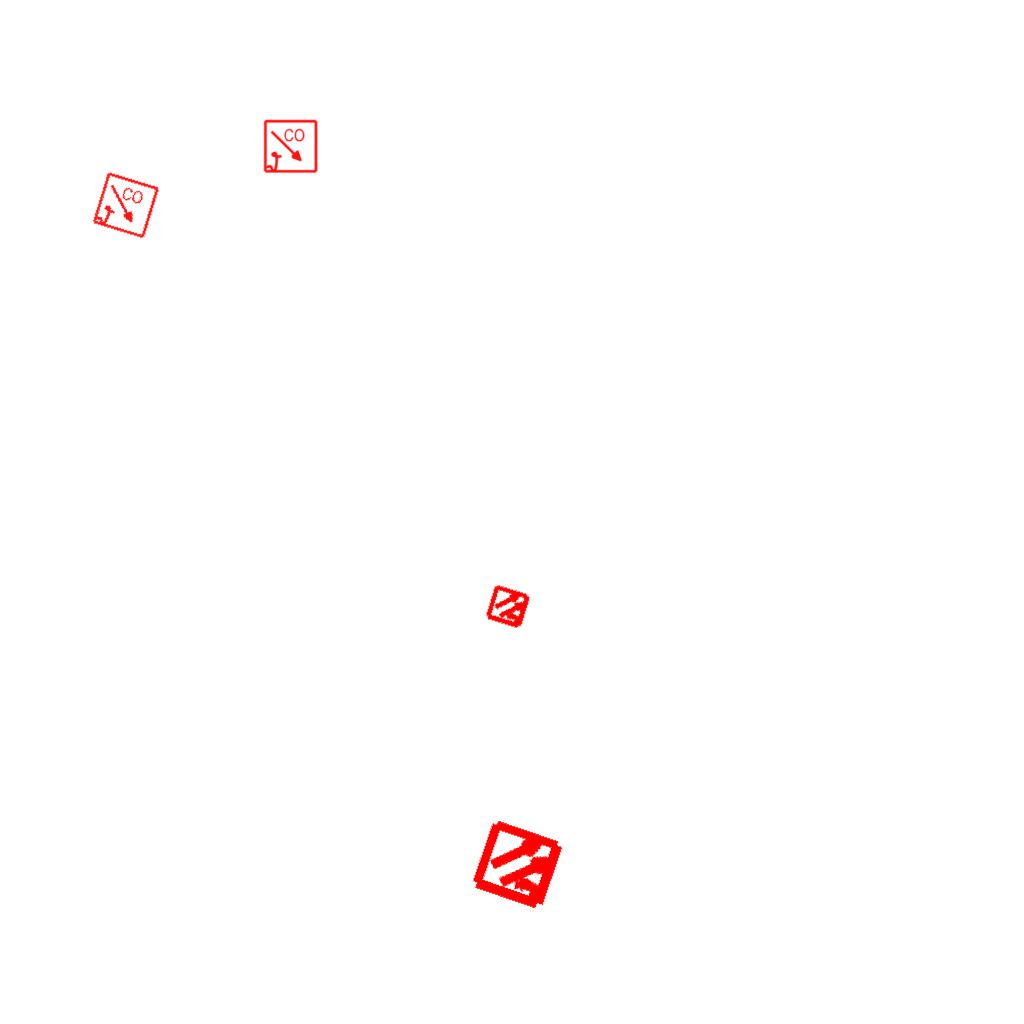OT_Multisensormelder_(Kombination_RMO_WMD): (447, 793, 592, 938), (474, 572, 544, 642)
ROA_Rauchmelder_optisch_mit_Signalgeber_(Sockelsirene): (91, 171, 161, 241), (263, 119, 319, 175)
